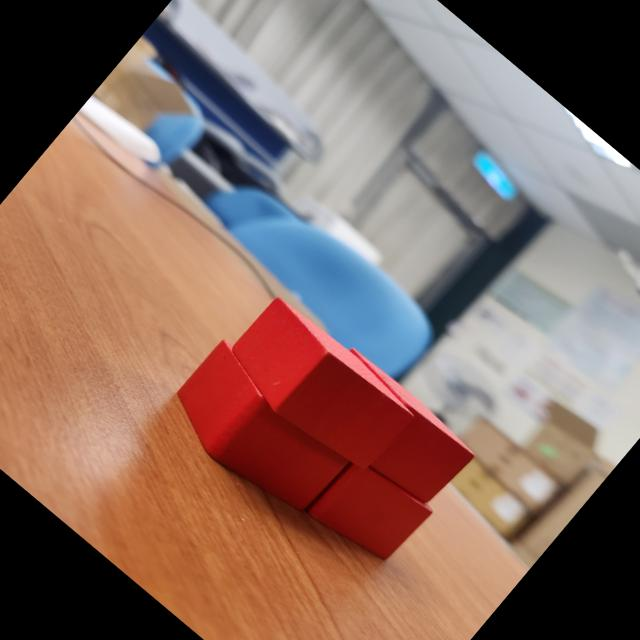red: (156, 336, 361, 531), (216, 290, 420, 484), (302, 346, 479, 515), (304, 445, 436, 576)
